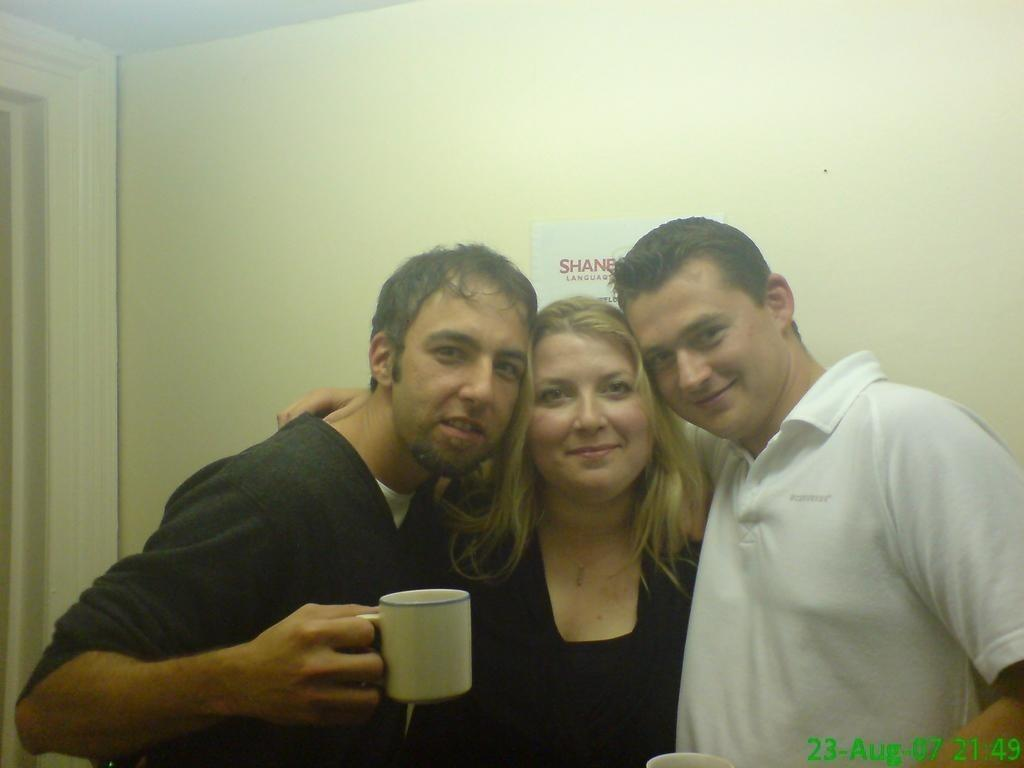cup-handle: (354, 586, 476, 702)
